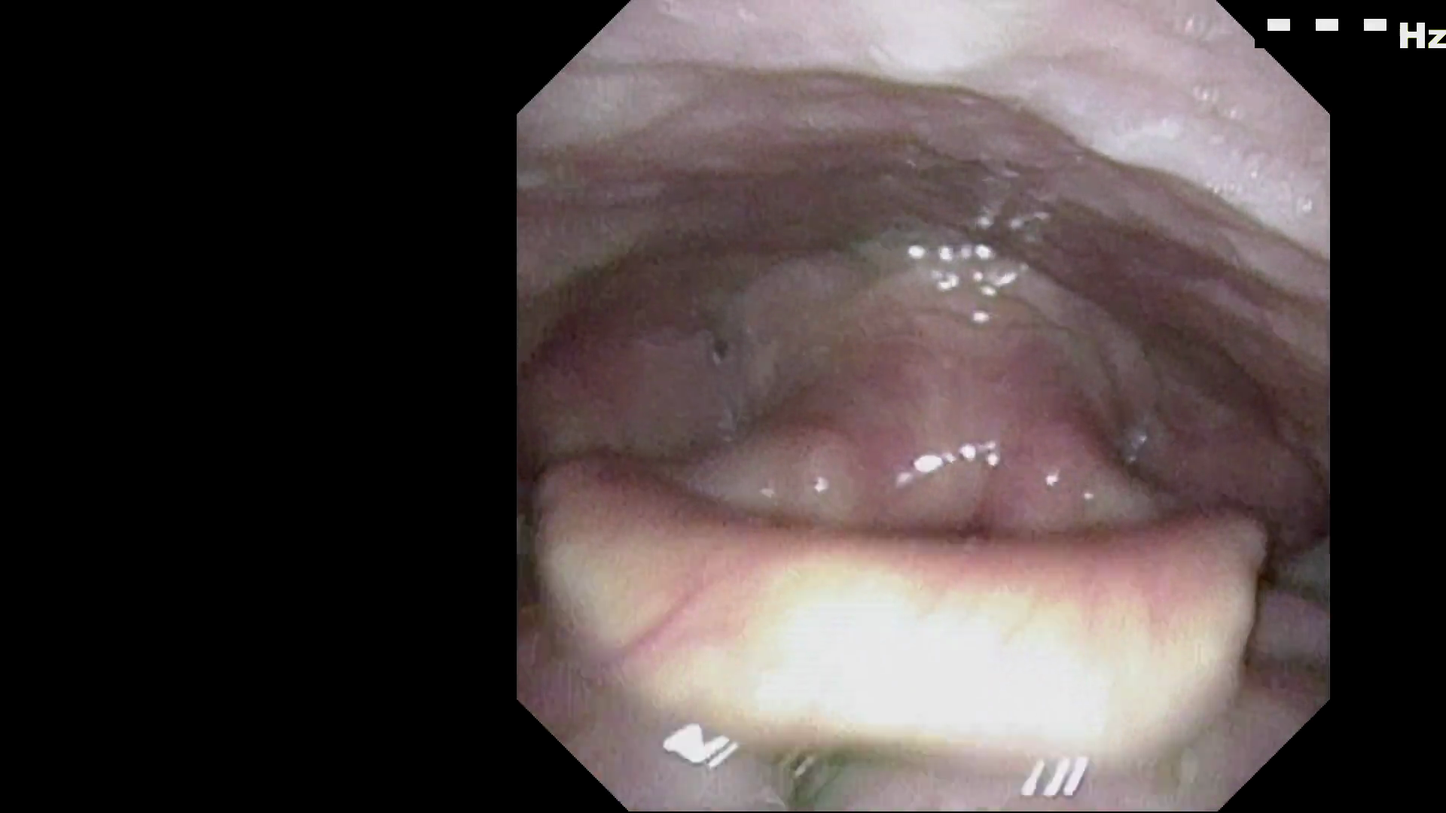epiglottis: (568, 500, 1283, 773)
trachea: (865, 436, 1023, 619)
